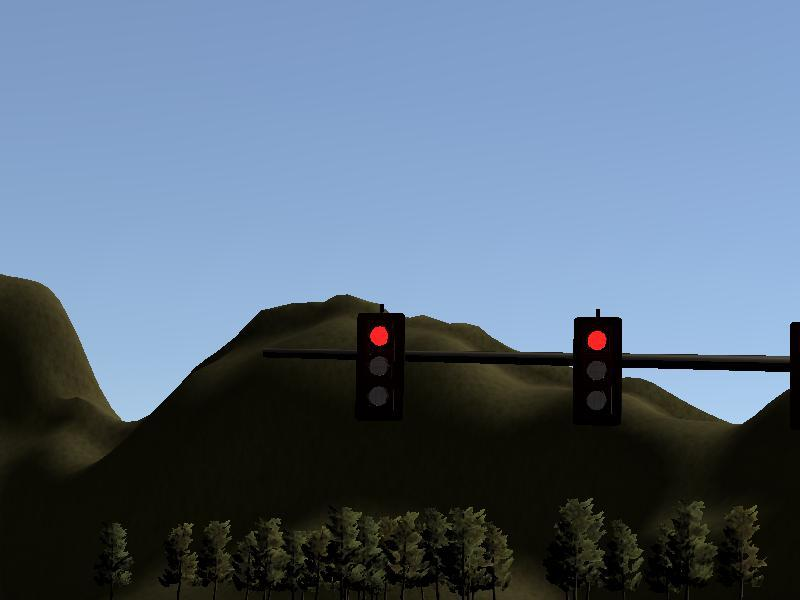Red: (575, 320, 620, 429), (359, 318, 405, 420)
